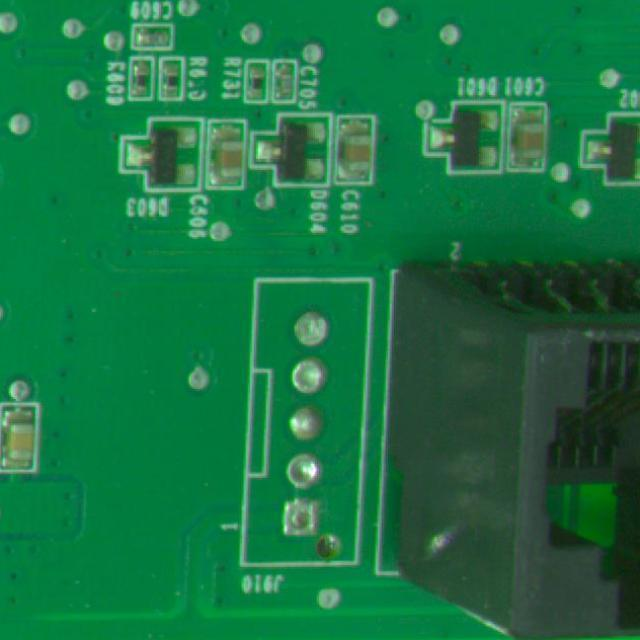Insufficient solder: (279, 492, 318, 535), (286, 452, 321, 488)
